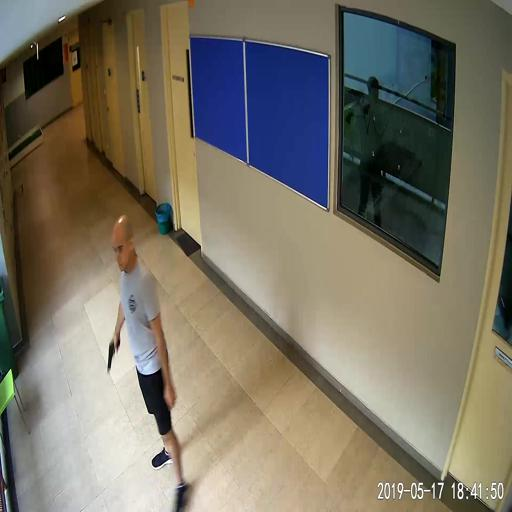pistol: (106, 336, 120, 371)
